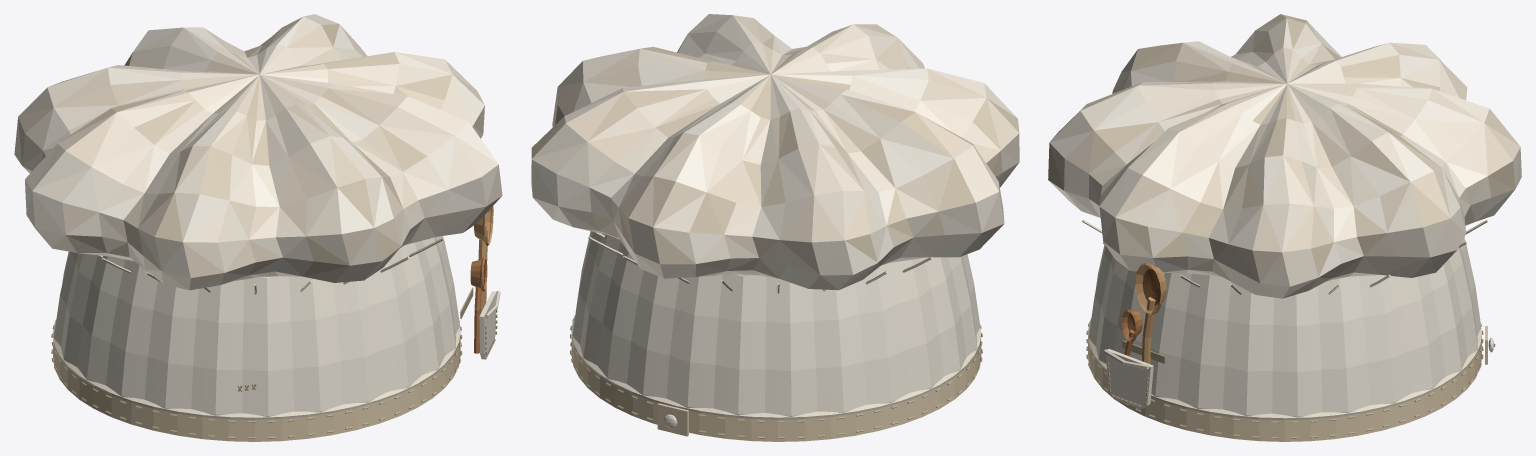
File: 006_cloud_chef_detailed_v03.glb
The picture shows the model from 3 angles, left to right: view 1: azimuth 30°, elevation 25°; view 2: azimuth 150°, elevation 25°; view 3: azimuth 270°, elevation 25°; orthographic projection. The views are drawn at different scales.
Parts seen in each view (by area): view 1: Chef eight rounded faceted cloud lobes, Chef tall twenty four pleat fabric band, Chef warm folded lower cuff, Chef cuff upper rolled hem, Chef stitched fabric utensil pocket; view 2: Chef eight rounded faceted cloud lobes, Chef tall twenty four pleat fabric band, Chef warm folded lower cuff, Chef cuff upper rolled hem, Chef rear cuff overlap; view 3: Chef eight rounded faceted cloud lobes, Chef tall twenty four pleat fabric band, Chef warm folded lower cuff, Chef cuff upper rolled hem, Chef stitched fabric utensil pocket, Chef large wooden tasting spoon hollow carved oval bowl.
Part boxes in pixels (x1,y1,x2,y2): Chef eight rounded faceted cloud lobes: [14, 14, 502, 290]; Chef tall twenty four pleat fabric band: [54, 236, 459, 416]; Chef warm folded lower cuff: [53, 334, 460, 441]; Chef cuff upper rolled hem: [53, 320, 460, 419]; Chef stitched fabric utensil pocket: [479, 291, 496, 359]; Chef eight rounded faceted cloud lobes: [531, 14, 1019, 290]; Chef tall twenty four pleat fabric band: [572, 231, 980, 416]; Chef warm folded lower cuff: [571, 334, 981, 441]; Chef cuff upper rolled hem: [571, 315, 981, 419]; Chef rear cuff overlap: [657, 403, 688, 436]; Chef eight rounded faceted cloud lobes: [1048, 14, 1521, 298]; Chef tall twenty four pleat fabric band: [1088, 238, 1481, 417]; Chef warm folded lower cuff: [1087, 336, 1482, 441]; Chef cuff upper rolled hem: [1088, 318, 1481, 420]; Chef stitched fabric utensil pocket: [1106, 349, 1153, 409]; Chef large wooden tasting spoon hollow carved oval bowl: [1138, 265, 1166, 311].
Size of the model in its own units: 2.7 by 1.64 by 2.54.
